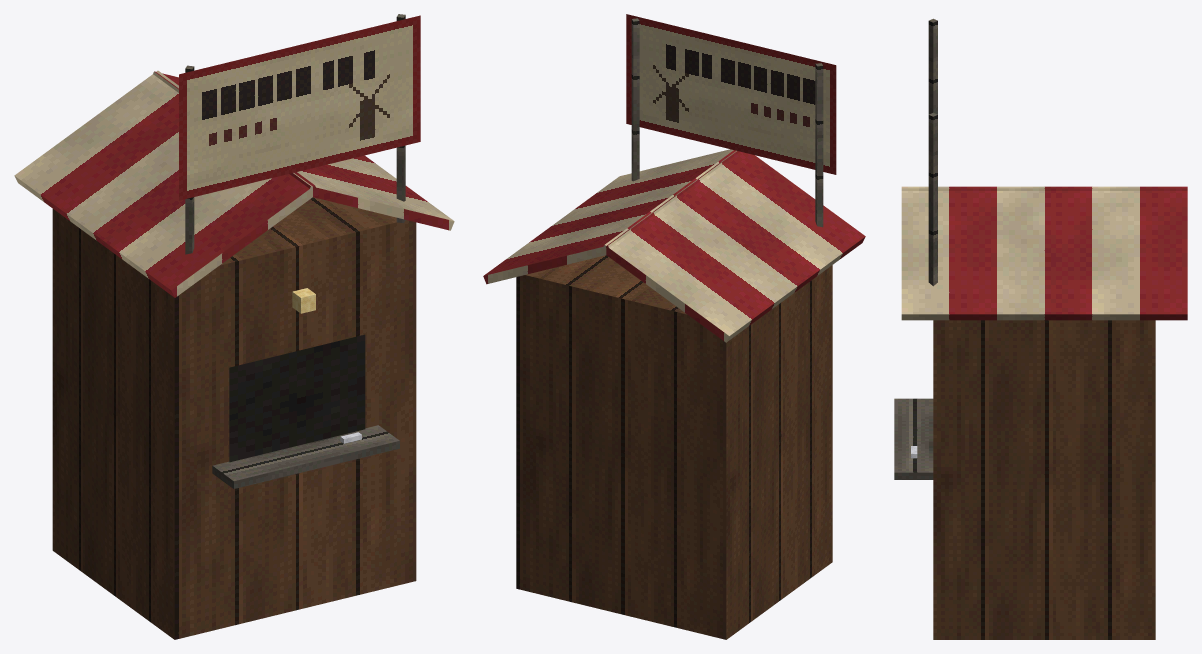
File: taquilla.obj
3 views of the same model, side by side, from view 1: azimuth 30°, elevation 25°; view 2: azimuth 150°, elevation 25°; view 3: azimuth 270°, elevation 25° (orthographic). The views are drawn at different scales.
Parts seen in each view (by area): view 1: taquilla; view 2: taquilla; view 3: taquilla.
Boxes of the visible parts, box(x1,y1,x2,y2) form: taquilla: box(14, 14, 454, 639); taquilla: box(483, 14, 865, 639); taquilla: box(894, 18, 1187, 639).
Size of the model in its own units: 1.88 by 3.6 by 1.84.
Materials: 7 (7 with a texture image).
